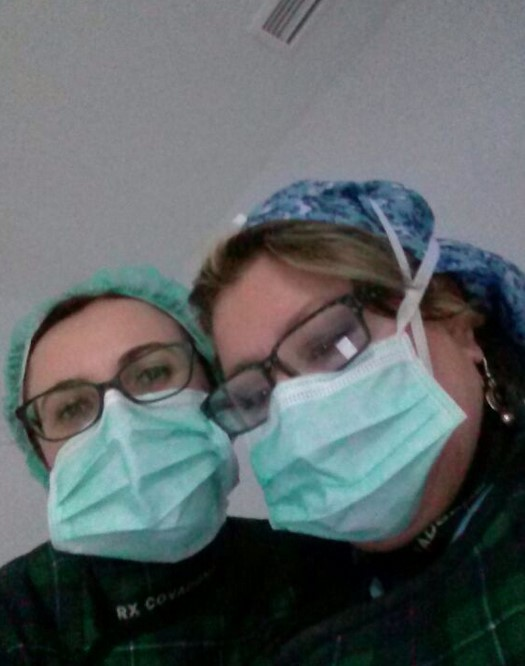face_with_mask: (194, 175, 516, 556), (8, 273, 244, 574)
